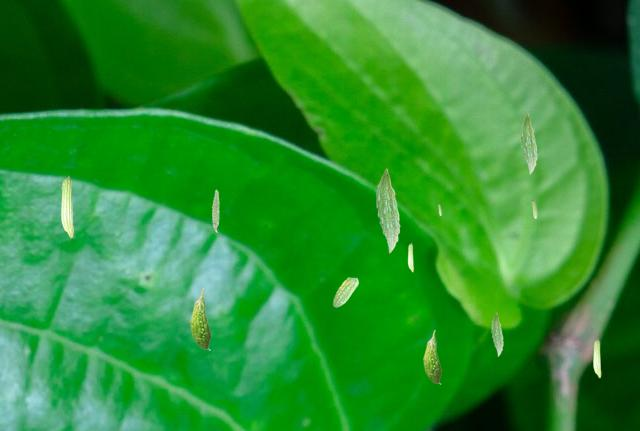ampalaya: (376, 168, 400, 253), (189, 287, 211, 351), (422, 329, 442, 384), (520, 113, 537, 174), (60, 175, 74, 238), (332, 277, 359, 307), (491, 312, 503, 357), (211, 189, 220, 233), (593, 338, 601, 378), (407, 242, 414, 272), (531, 199, 538, 218), (437, 203, 442, 216)
